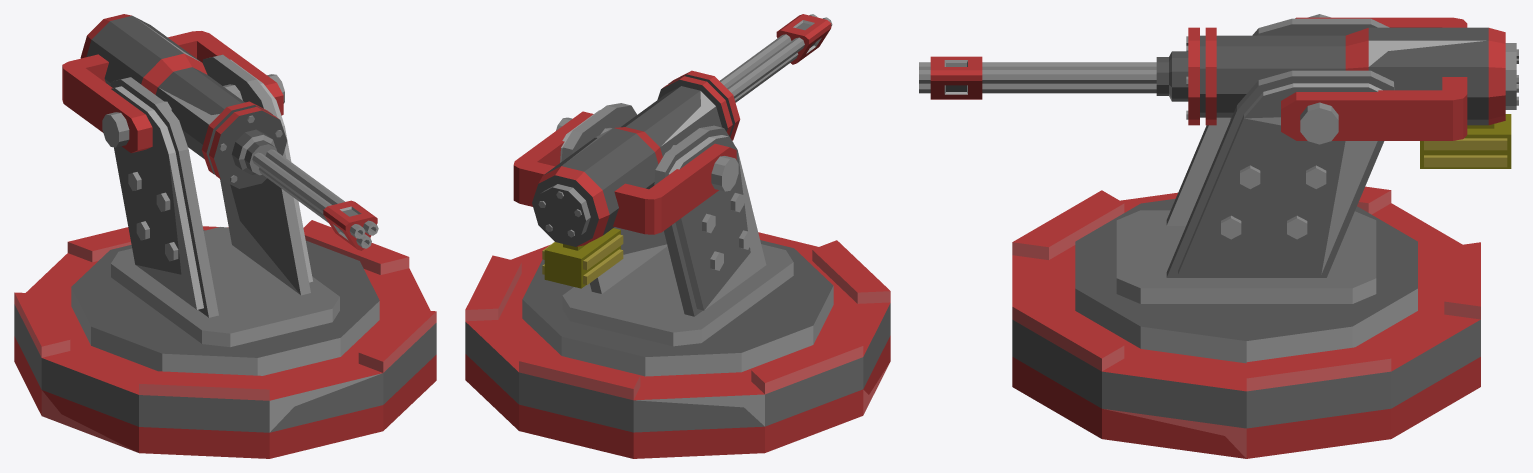
The model's file is tower_minigun_red_1.fbx.
3 renders of one model, left to right at view 1: azimuth 30°, elevation 25°; view 2: azimuth 150°, elevation 25°; view 3: azimuth 270°, elevation 25°, orthographic. The views are drawn at different scales.
Visible parts, largest first — view 1: top_minigun_red_1, tower_minigun_red_1; view 2: top_minigun_red_1, tower_minigun_red_1; view 3: top_minigun_red_1, tower_minigun_red_1.
Boxes of the visible parts, x1,y1,x2,y2 form: top_minigun_red_1: (62, 14, 379, 375); tower_minigun_red_1: (14, 220, 436, 458); top_minigun_red_1: (513, 14, 833, 376); tower_minigun_red_1: (465, 232, 890, 458); top_minigun_red_1: (919, 14, 1518, 363); tower_minigun_red_1: (1012, 186, 1480, 458).
Size of the model in its own units: 145 by 104 by 177.
